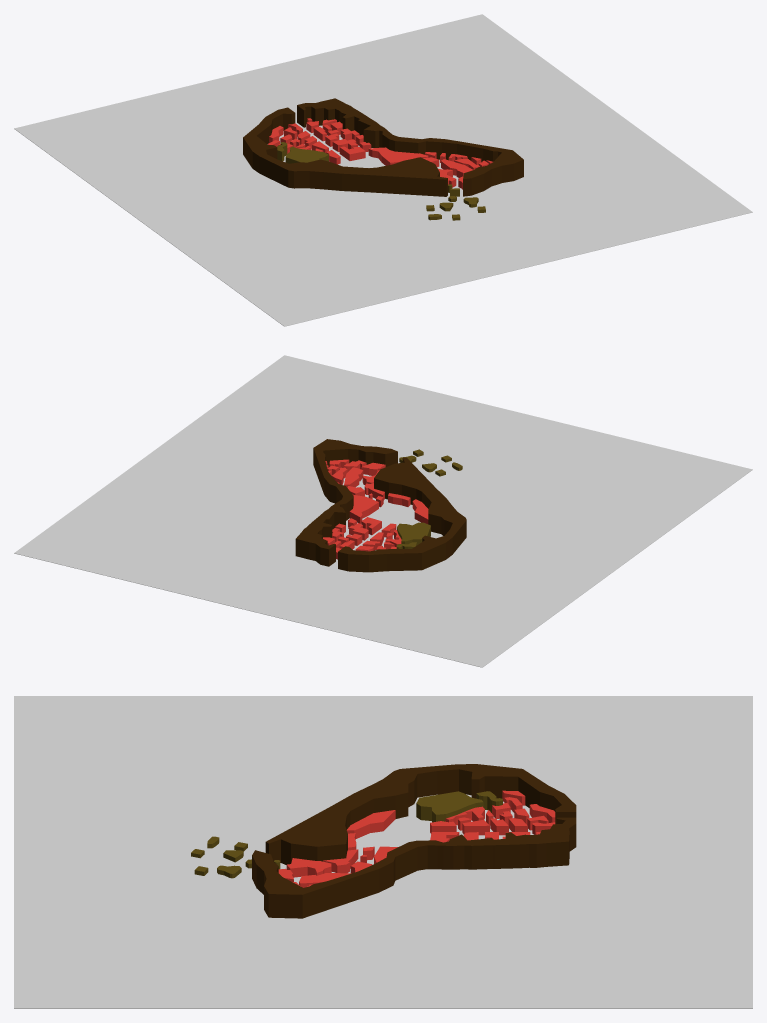
The model's file is blockout_lvl2.fbx.
3 views of the same model, one above another, from view 1: azimuth 30°, elevation 25°; view 2: azimuth 150°, elevation 25°; view 3: azimuth 270°, elevation 25° (orthographic). The views are drawn at different scales.
Parts seen in each view (by area): view 1: Cube.057, Cube, Cube.001, Cube.024, Cube.025; view 2: Cube.057, Cube, Cube.001, Cube.025, Cube.024; view 3: Cube.057, Cube.001, Cube, Cube.025, Cube.023, Cube.008.
Part boxes in pixels (x1,y1,x2,y2): Cube.057: [14, 14, 752, 326]; Cube: [243, 107, 447, 196]; Cube.001: [297, 98, 523, 196]; Cube.024: [368, 147, 428, 165]; Cube.025: [285, 146, 328, 163]; Cube.057: [14, 355, 752, 667]; Cube: [338, 457, 466, 572]; Cube.001: [295, 439, 397, 566]; Cube.025: [397, 522, 430, 545]; Cube.024: [349, 494, 378, 523]; Cube.057: [14, 696, 752, 1008]; Cube.001: [252, 817, 576, 918]; Cube: [265, 764, 576, 864]; Cube.025: [416, 791, 483, 822]; Cube.023: [347, 810, 395, 838]; Cube.008: [286, 858, 331, 877].
Bounding box in the file's own units: 200 × 7.26 × 200.
